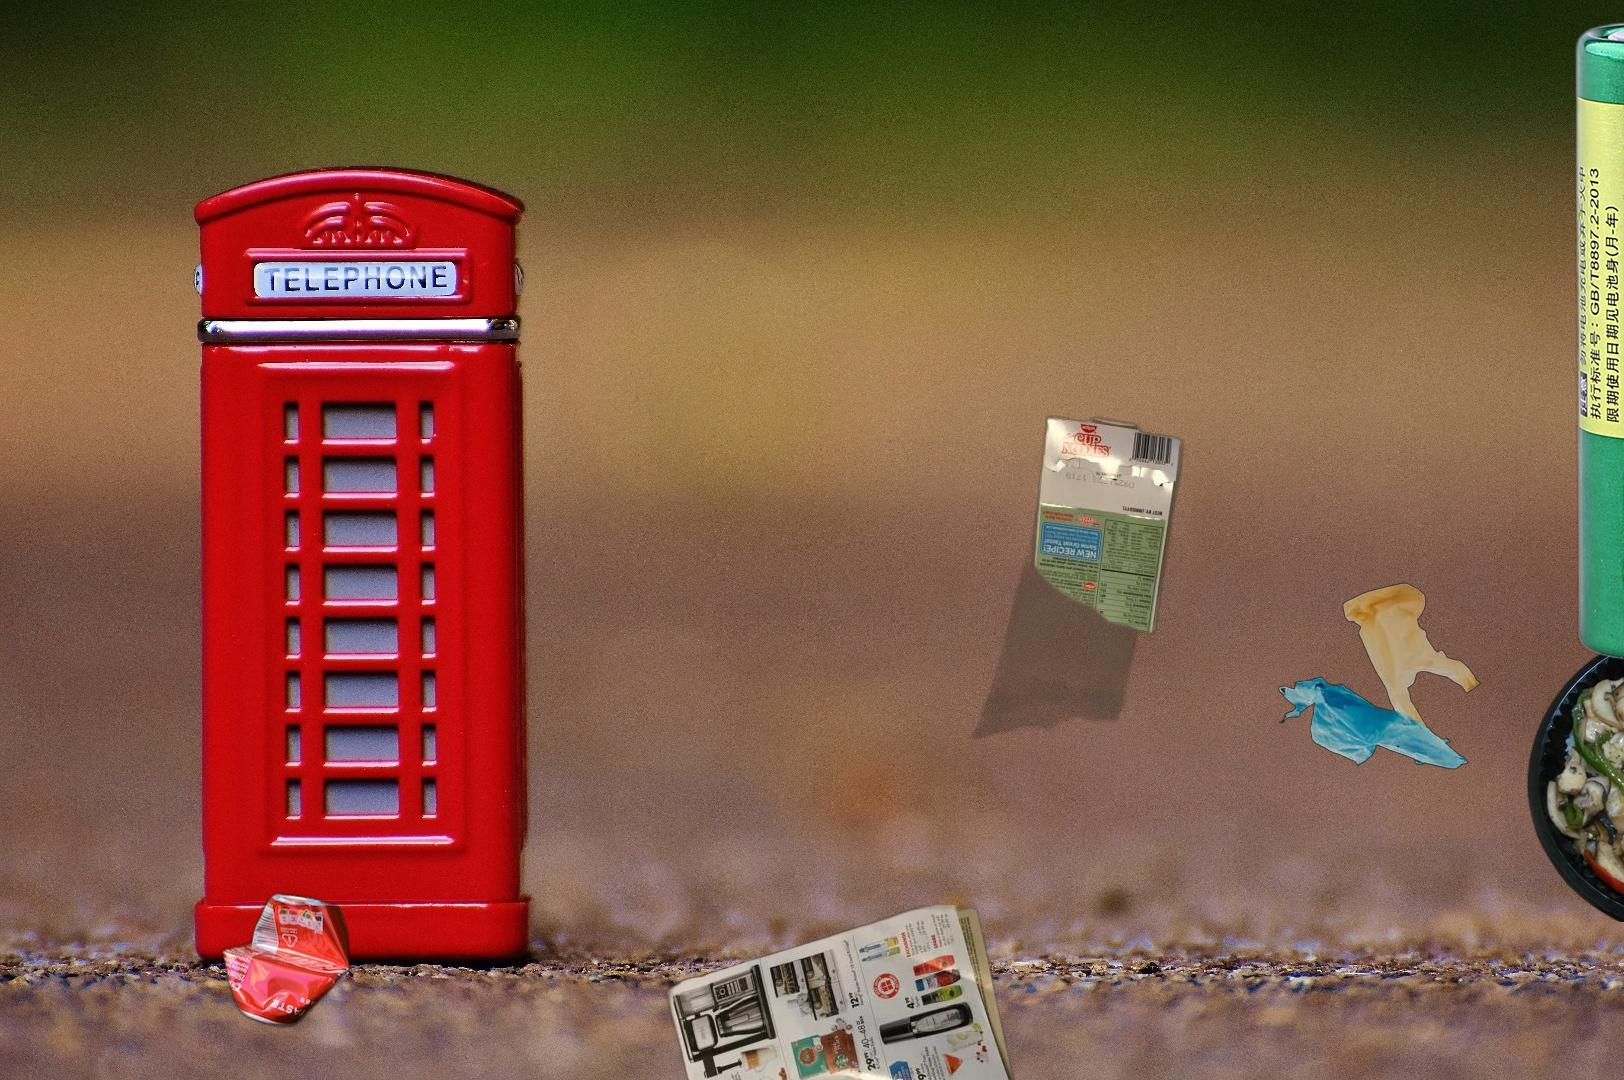battery: (1569, 2, 1624, 669)
biological: (1524, 628, 1624, 922)
metal-cans: (217, 887, 355, 1033)
paper: (859, 413, 1187, 767), (661, 905, 1041, 1080)
plastic-bag: (1275, 580, 1483, 770)
